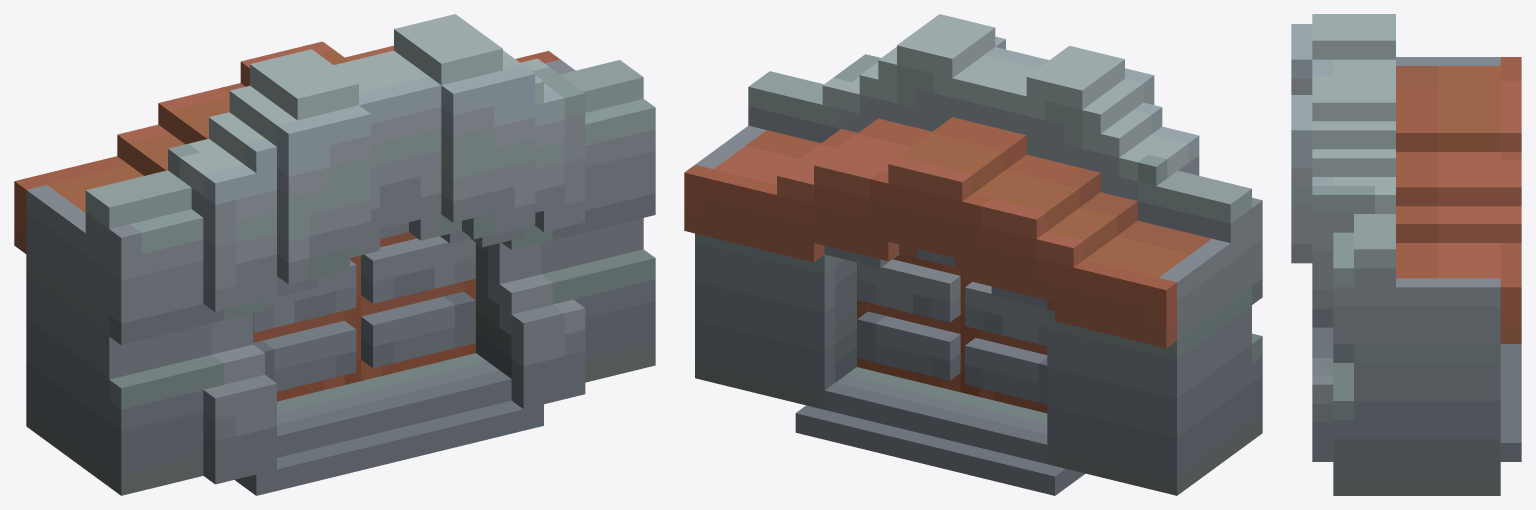
Rendered from wall_straight_gate.glb.
3 renders of one model, left to right at view 1: azimuth 30°, elevation 25°; view 2: azimuth 150°, elevation 25°; view 3: azimuth 270°, elevation 25°, orthographic. The views are drawn at different scales.
Visible parts, largest first — view 1: wall_straight_gate, wall_straight_gate_door_left, wall_straight_gate_door_right; view 2: wall_straight_gate, wall_straight_gate_door_left, wall_straight_gate_door_right; view 3: wall_straight_gate.
Part boxes in pixels (x1=…): wall_straight_gate: x1=14, y1=14, x2=655, y2=495; wall_straight_gate_door_left: x1=340, y1=232, x2=475, y2=384; wall_straight_gate_door_right: x1=253, y1=257, x2=364, y2=401; wall_straight_gate: x1=684, y1=14, x2=1262, y2=495; wall_straight_gate_door_left: x1=857, y1=253, x2=979, y2=396; wall_straight_gate_door_right: x1=965, y1=282, x2=1047, y2=413; wall_straight_gate: x1=1291, y1=14, x2=1521, y2=495.
Bounding box in the file's own units: 2.17 × 1.5 × 0.9163.
Materials: 1 (1 with a texture image).
